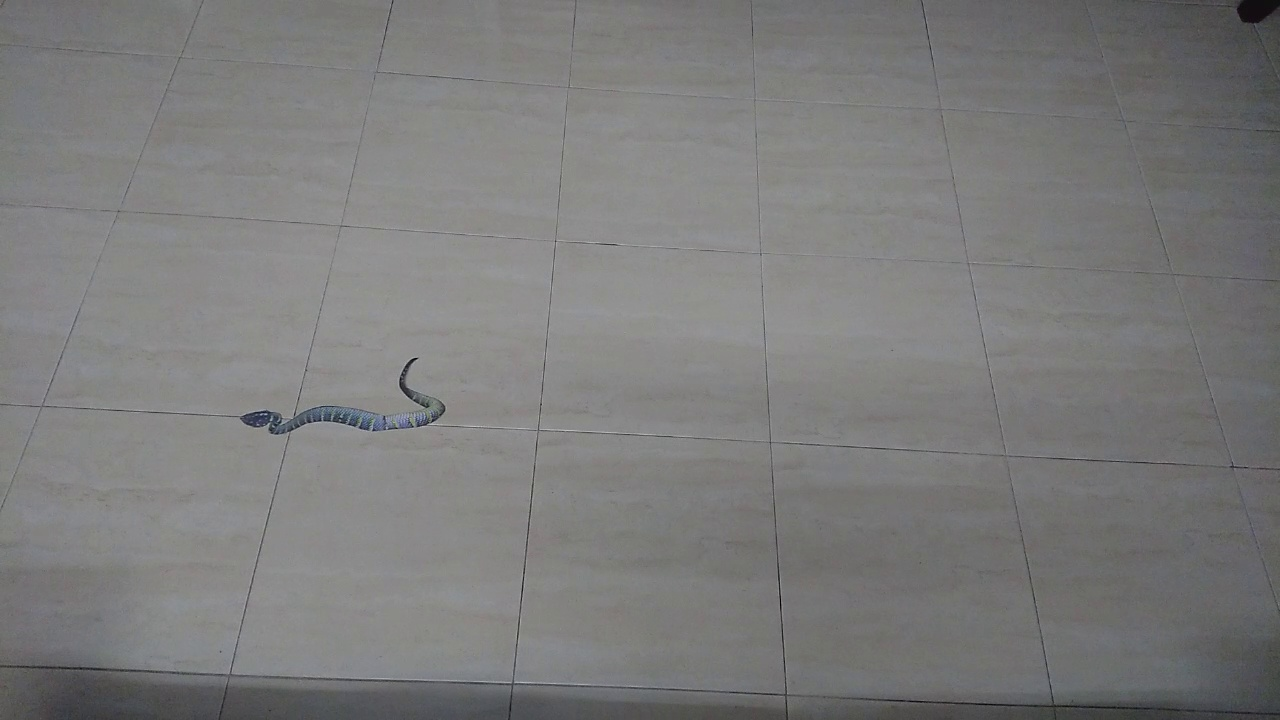snake: (214, 340, 465, 448)
